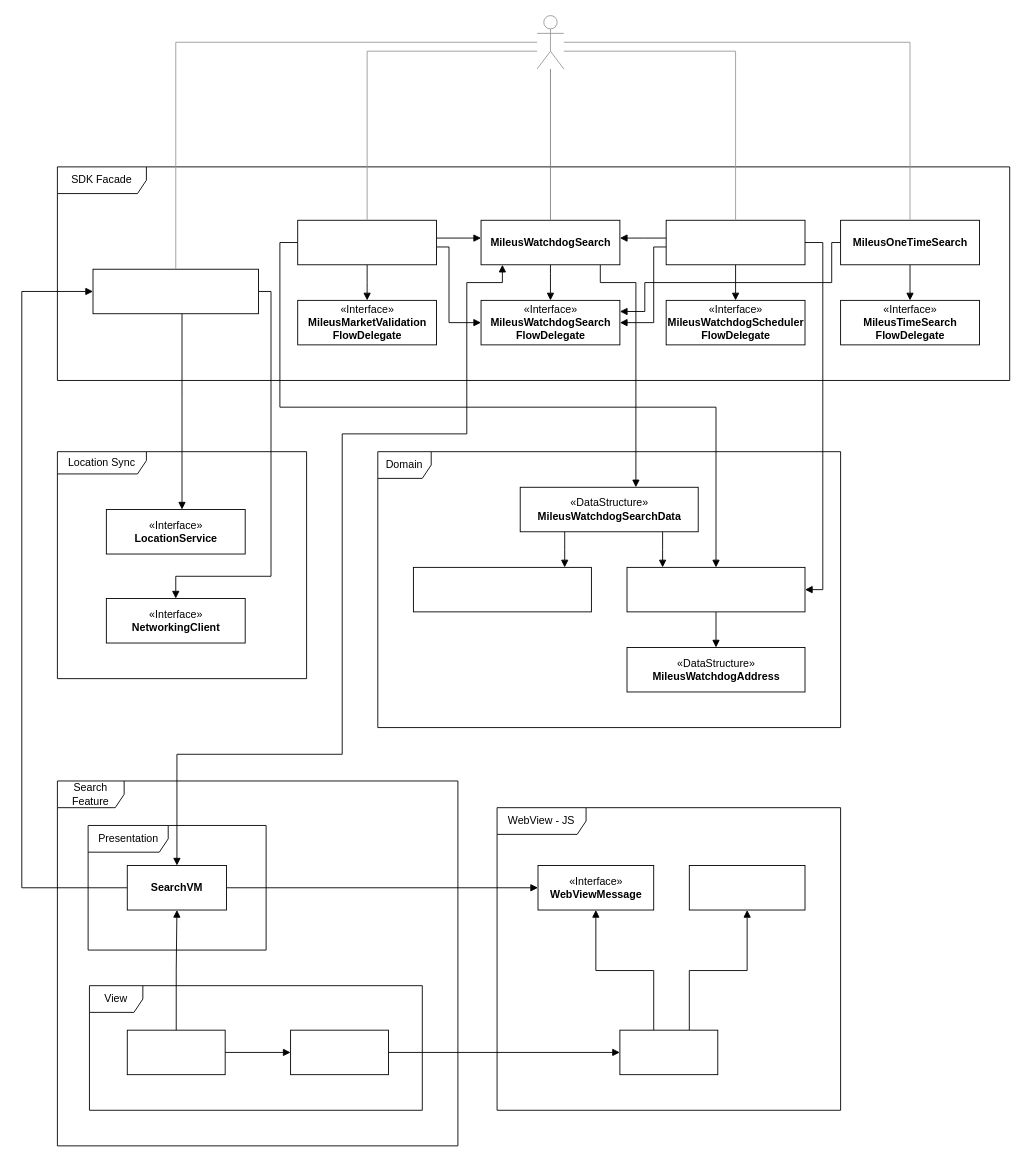
Some shapes in this 1025 by 1161 pixel diagram are drawn without their labels. The shapes that lost their labels are listed below. From the top down, each one's centre as x and y in pixels, then its label:
At (x=550, y=42): "Cllient".
At (x=367, y=242): "MileusMarketValidation".
At (x=735, y=242): "MileusWatchdogScheduler".
At (x=175, y=291): "MileusWatchdogLocationSync".
At (x=502, y=589): "«Enum» MileusWatchdogSearchType".
At (x=715, y=589): "«DataStructure» MileusWatchdogLocation".
At (x=746, y=887): "«Interface» WebViewInjection".
At (x=175, y=1052): "SearchVC".
At (x=339, y=1052): "SearchView".
At (x=668, y=1052): "WebView".
